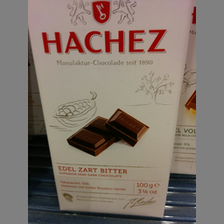chocolate: (29, 1, 190, 216)
